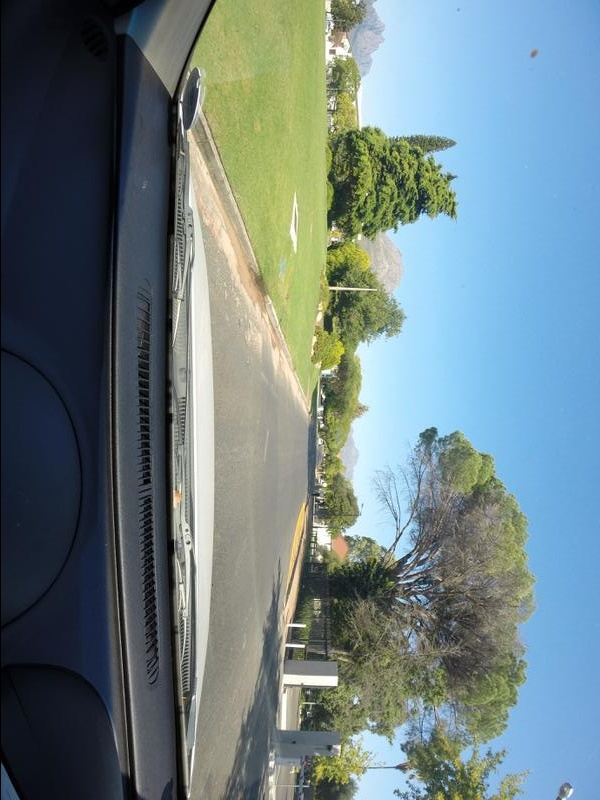pothole: (238, 313, 263, 376)
